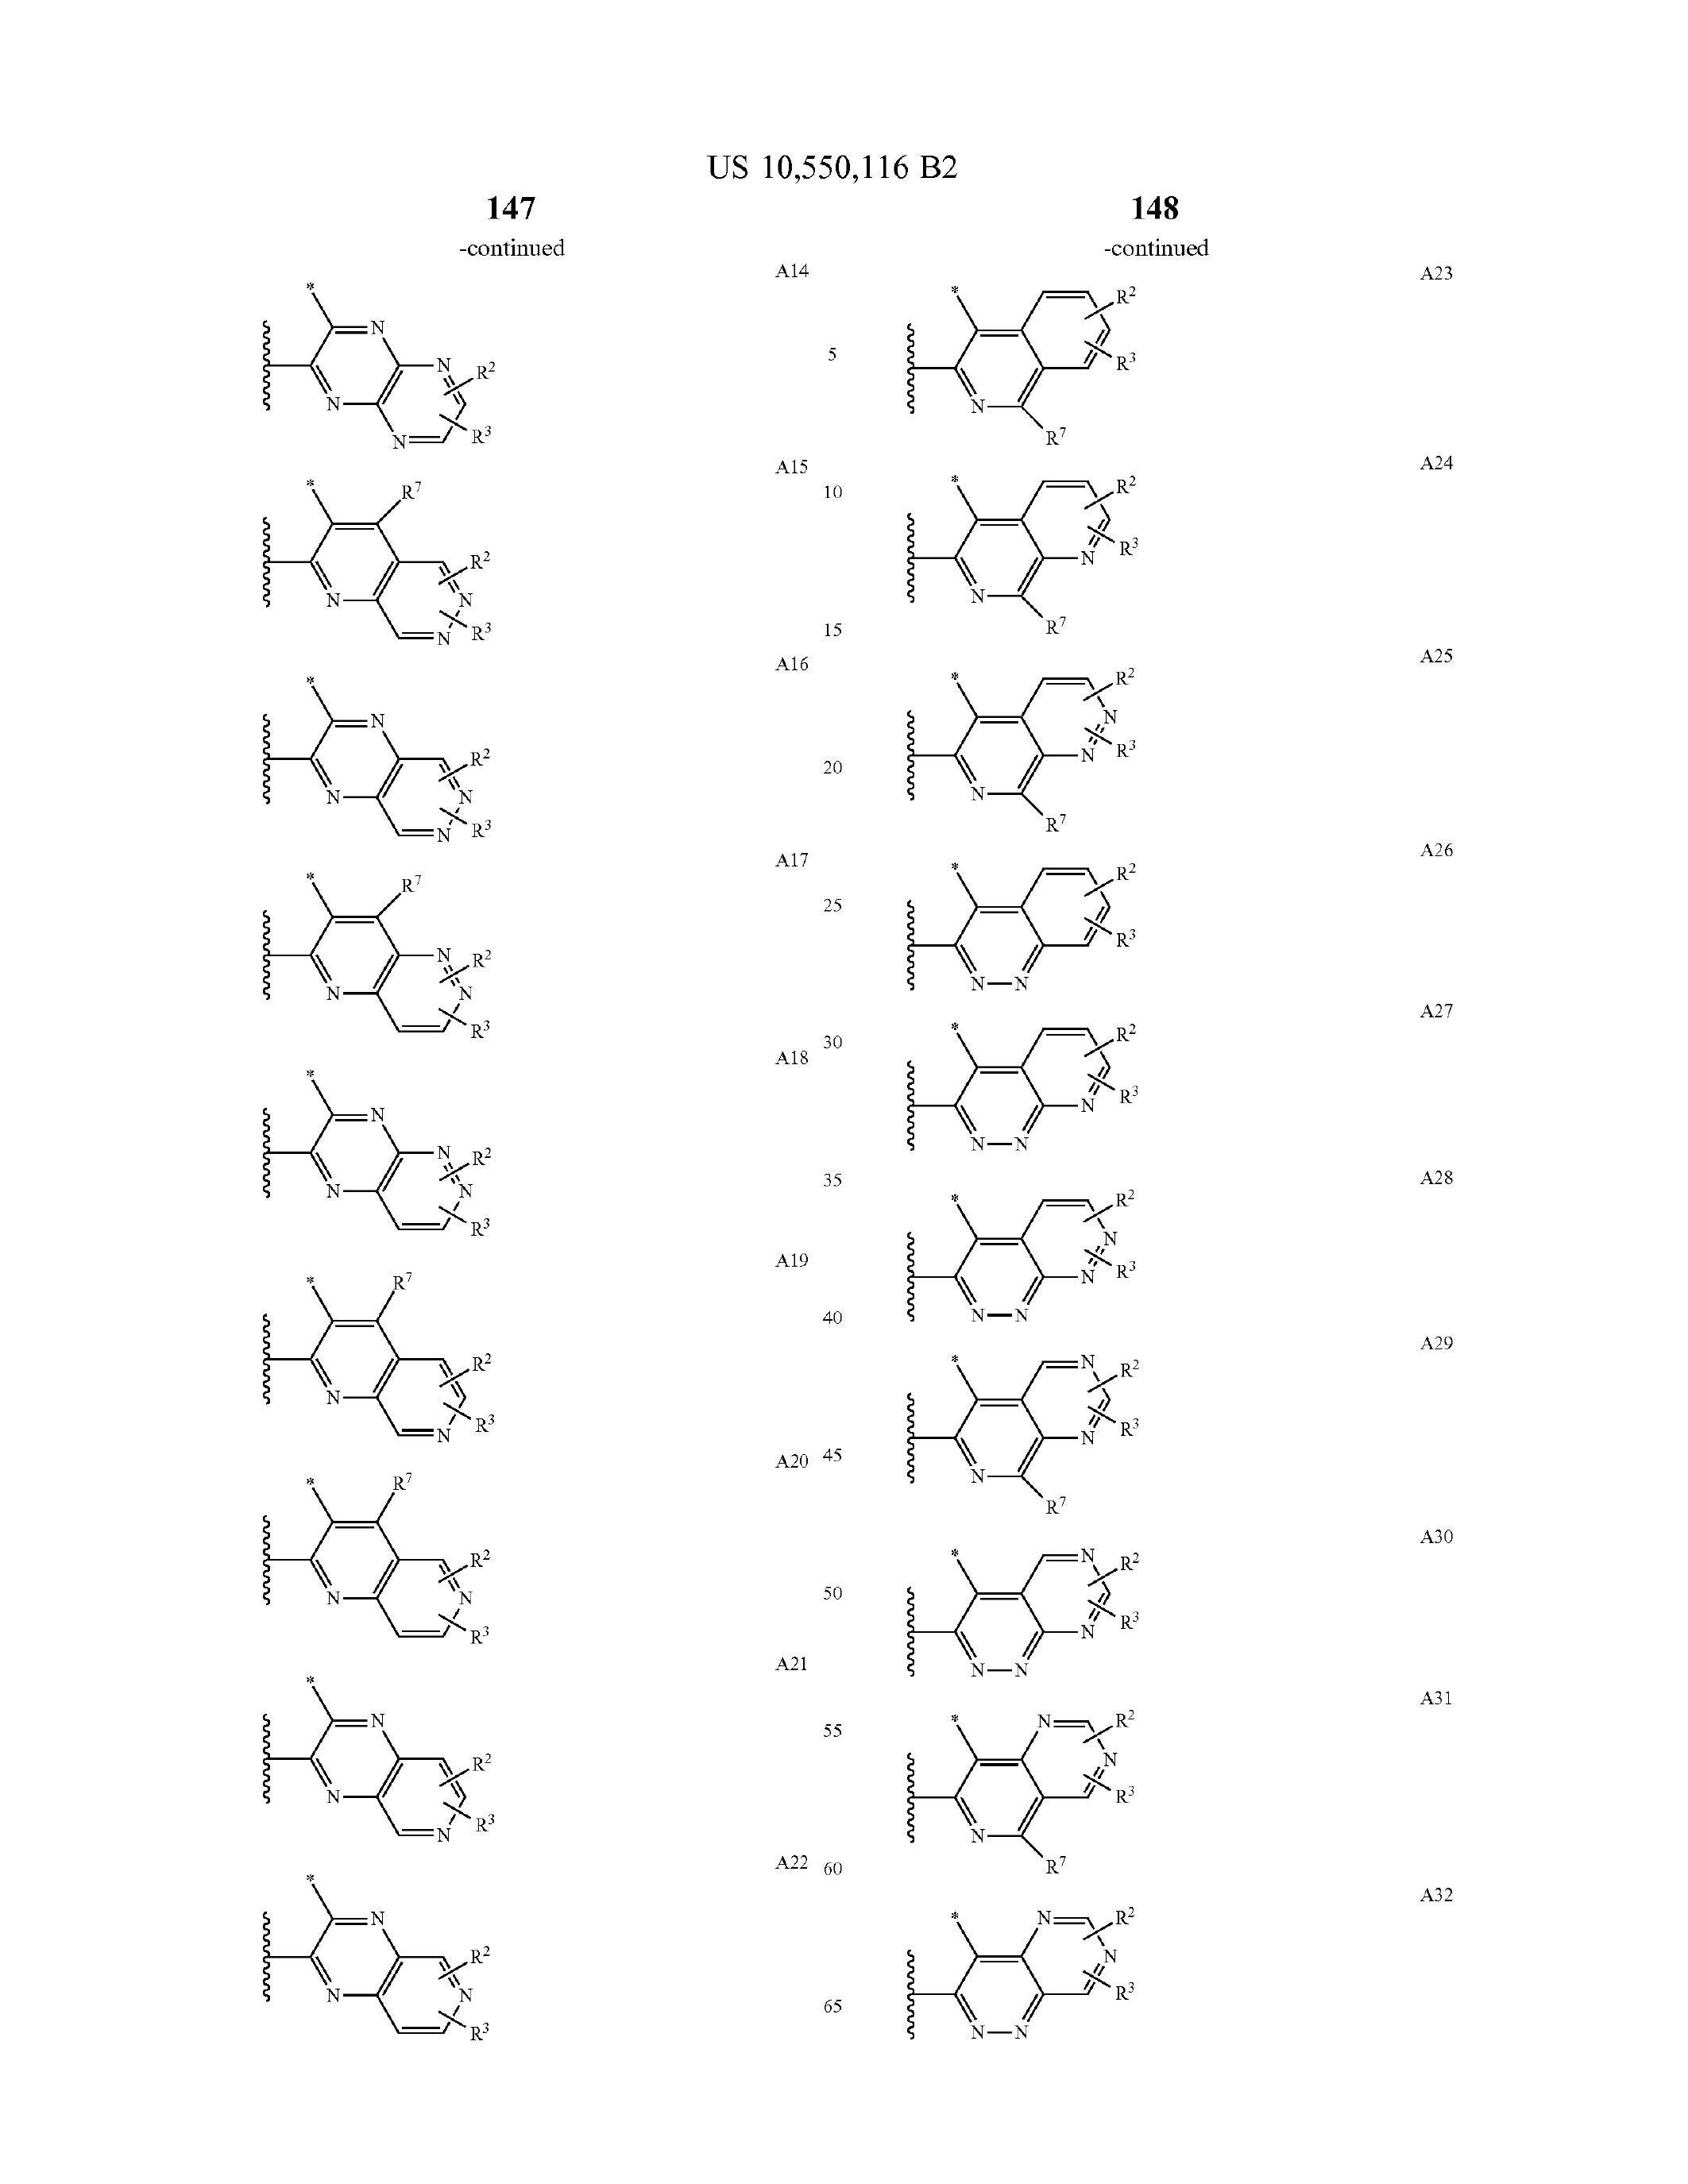substitutes: (218, 470, 535, 651), (206, 668, 521, 847), (225, 275, 541, 450), (200, 1675, 521, 1845), (200, 1065, 496, 1250), (215, 872, 525, 1046), (234, 1468, 511, 1658), (215, 1269, 507, 1448), (234, 1870, 521, 2049), (871, 280, 1170, 443), (903, 1895, 1200, 2053), (887, 464, 1160, 635), (892, 1709, 1176, 1870), (903, 1344, 1170, 1514), (888, 1537, 1192, 1686), (874, 851, 1176, 1000), (888, 659, 1156, 826), (894, 1182, 1176, 1328), (887, 1026, 1174, 1158)
